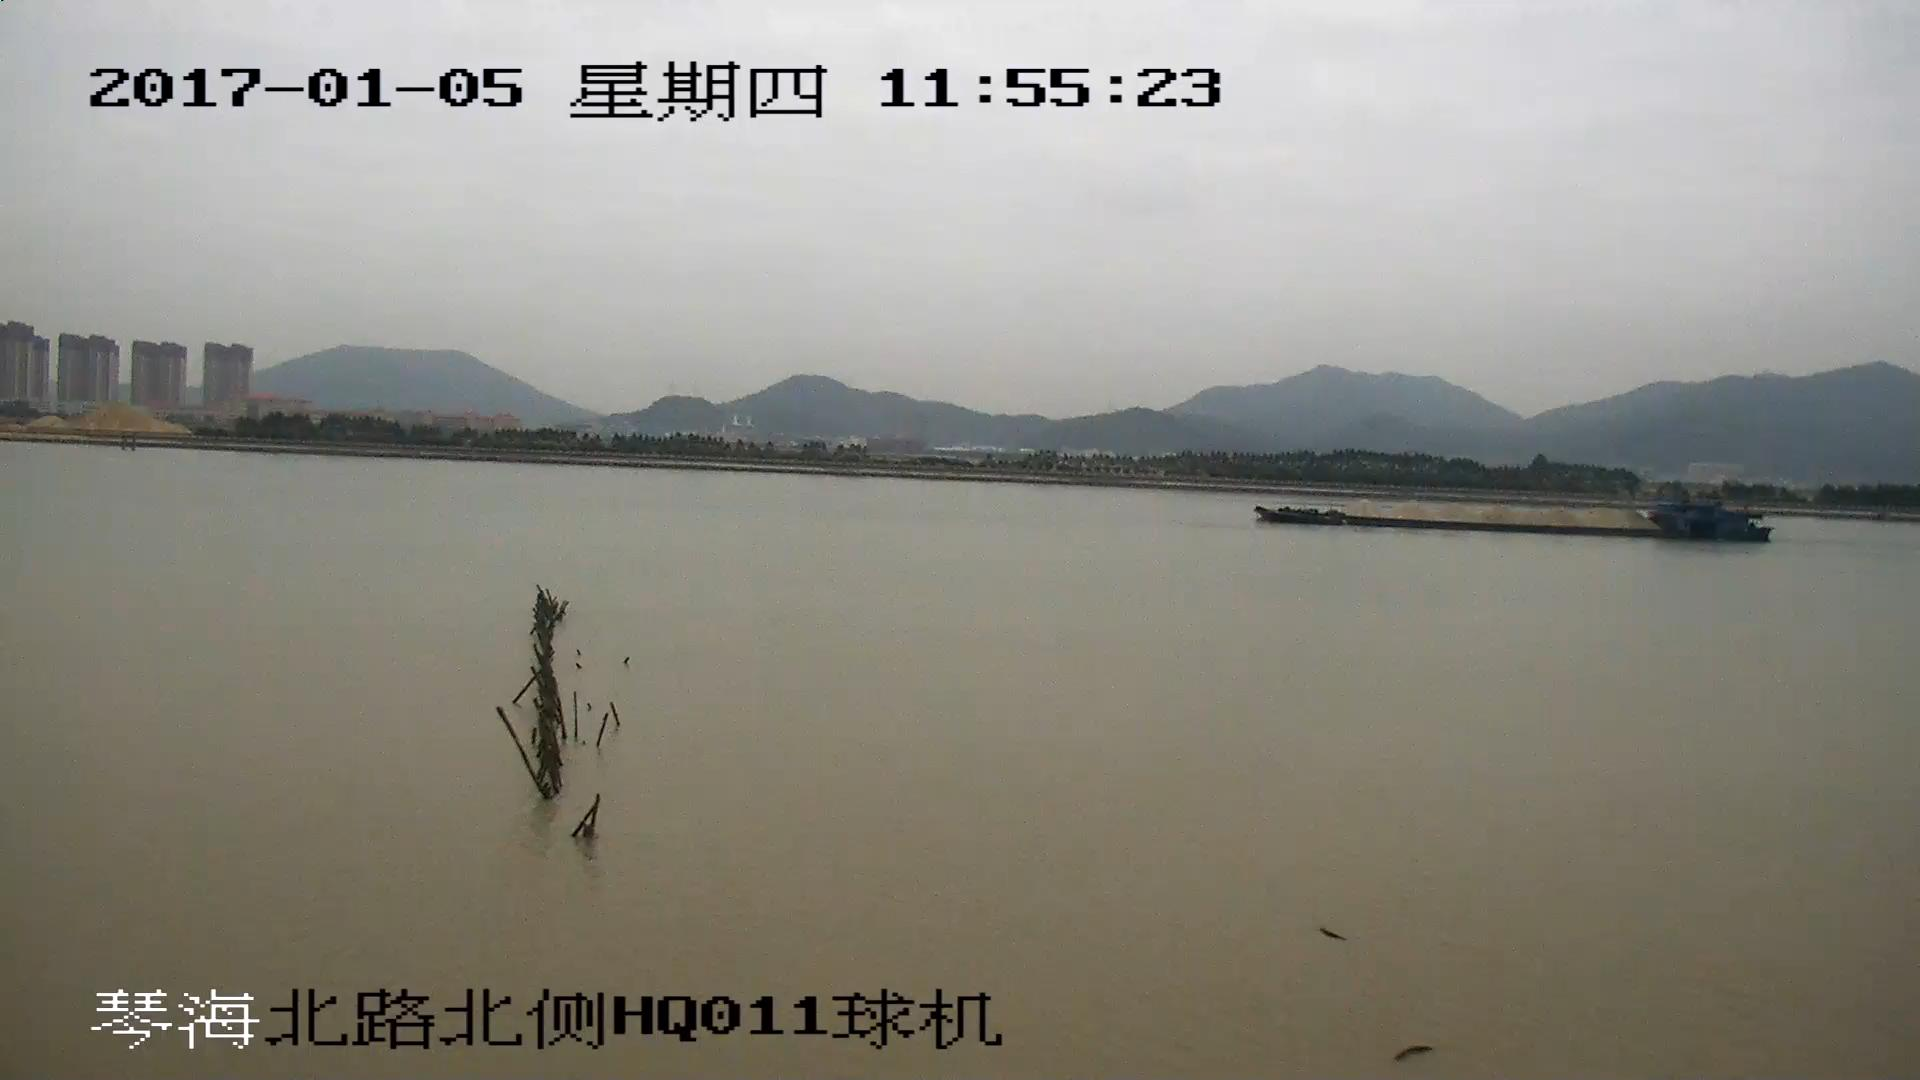ore carrier: (1252, 502, 1772, 546)
